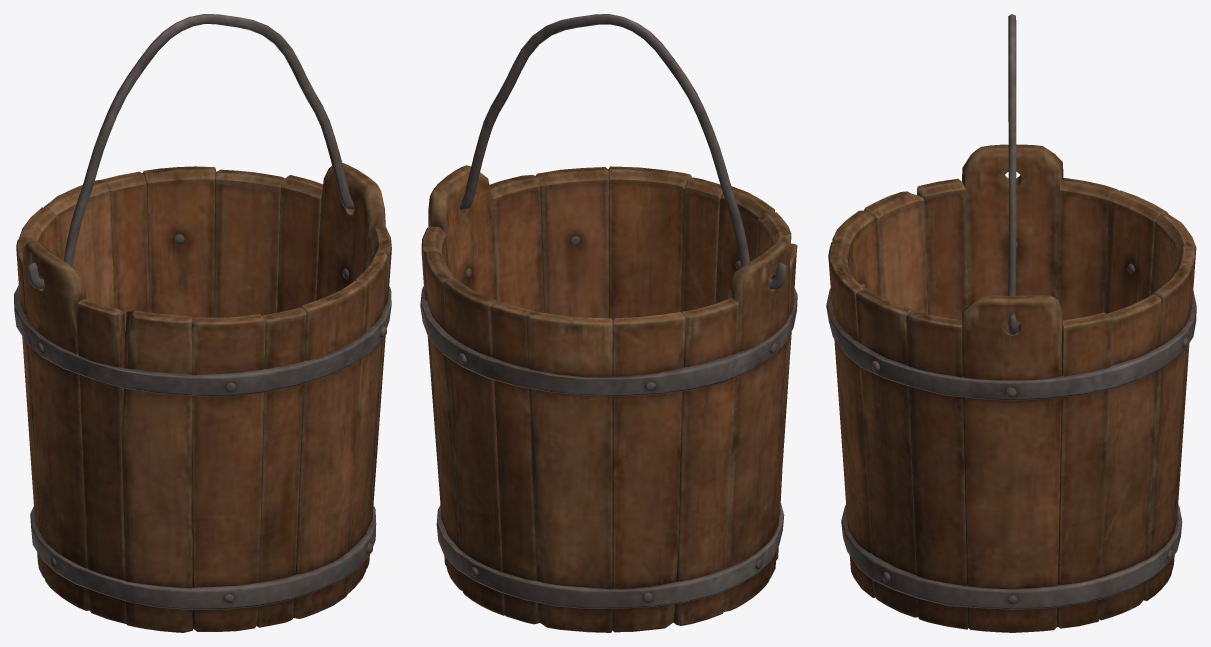
Rendered from bucket.glb.
3 renders of one model, left to right at view 1: azimuth 30°, elevation 25°; view 2: azimuth 150°, elevation 25°; view 3: azimuth 270°, elevation 25°, orthographic.
Parts seen in each view (by area): view 1: wooden_bucket_01, wooden_bucket_01_handle; view 2: wooden_bucket_01, wooden_bucket_01_handle; view 3: wooden_bucket_01, wooden_bucket_01_handle.
Part boxes in pixels (x1=…): wooden_bucket_01: x1=14, y1=163, x2=391, y2=632; wooden_bucket_01_handle: x1=27, y1=14, x2=354, y2=289; wooden_bucket_01: x1=420, y1=165, x2=797, y2=632; wooden_bucket_01_handle: x1=437, y1=14, x2=786, y2=289; wooden_bucket_01: x1=826, y1=144, x2=1196, y2=632; wooden_bucket_01_handle: x1=1008, y1=14, x2=1016, y2=335.
Bounding box in the file's own units: 0.367 × 0.5499 × 0.3422.
Materials: 1 (1 with a texture image).
